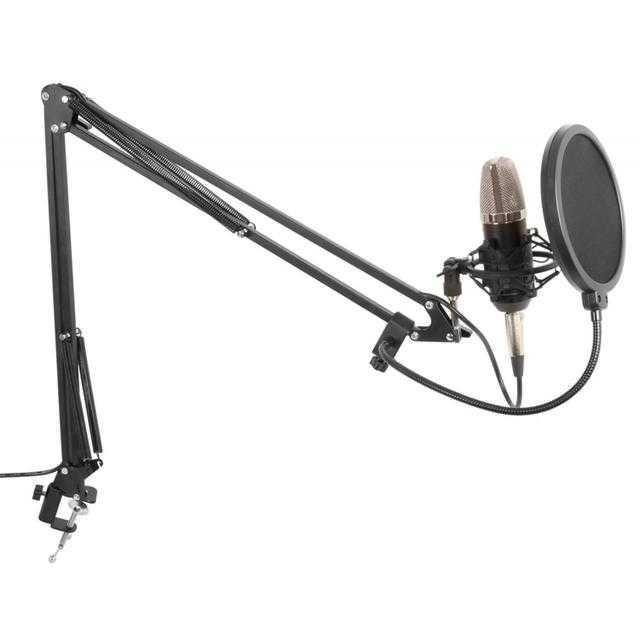microphone: (478, 156, 532, 321)
